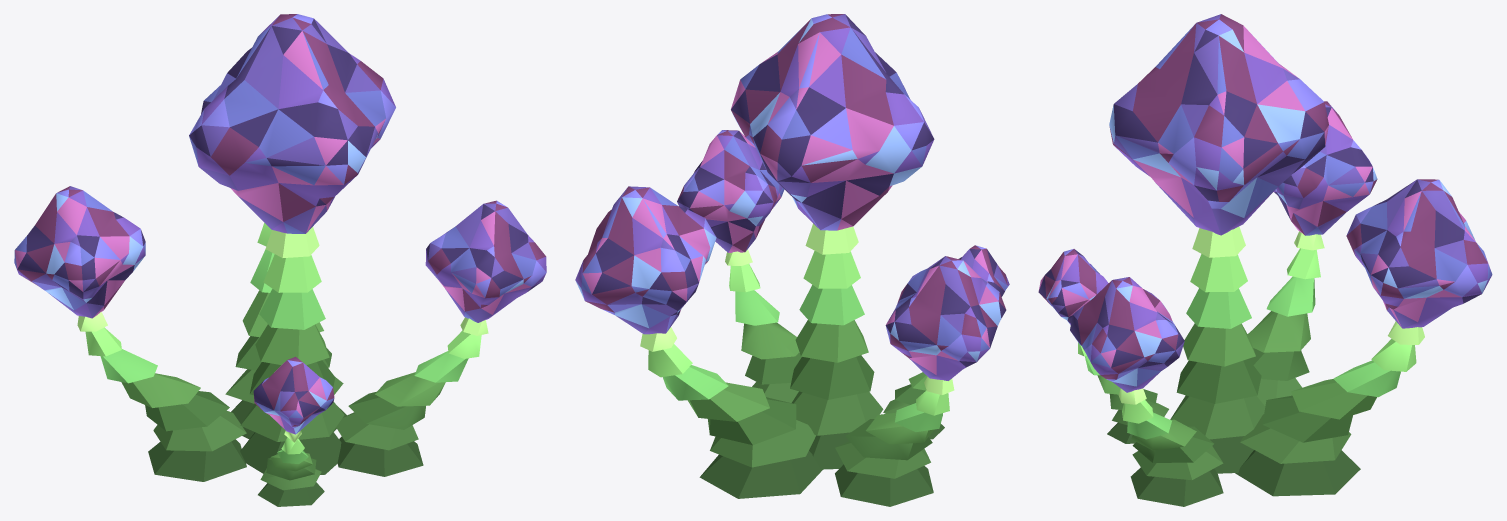
The model's file is mosaic_reef_bloom.glb.
The picture shows the model from 3 angles, left to right: view 1: azimuth 30°, elevation 25°; view 2: azimuth 150°, elevation 25°; view 3: azimuth 270°, elevation 25°; orthographic projection.
Visible parts, largest first — view 1: Mosaic Reef Bloom; view 2: Mosaic Reef Bloom; view 3: Mosaic Reef Bloom.
Part boxes in pixels (x1=…): Mosaic Reef Bloom: x1=14, y1=14, x2=546, y2=506; Mosaic Reef Bloom: x1=575, y1=14, x2=1009, y2=506; Mosaic Reef Bloom: x1=1038, y1=14, x2=1492, y2=506.
Bounding box in the file's own units: 1.3 × 1.32 × 1.24.
1 material, 1 textured.
